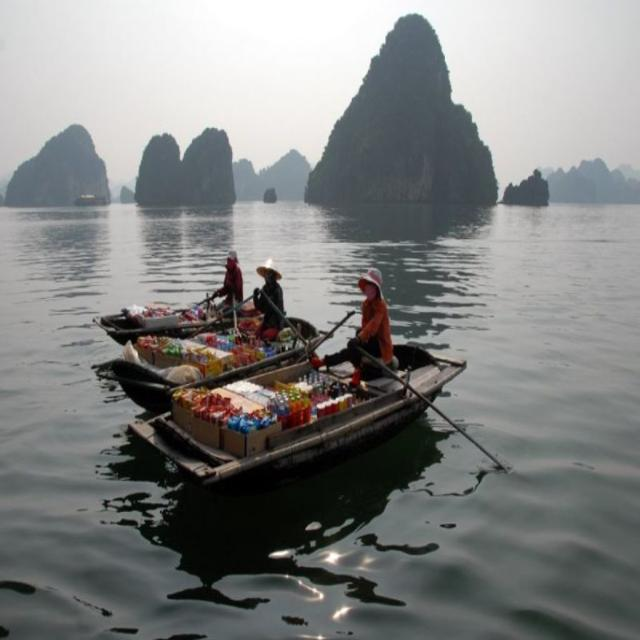Boat: (107, 327, 322, 418), (93, 305, 319, 355)
